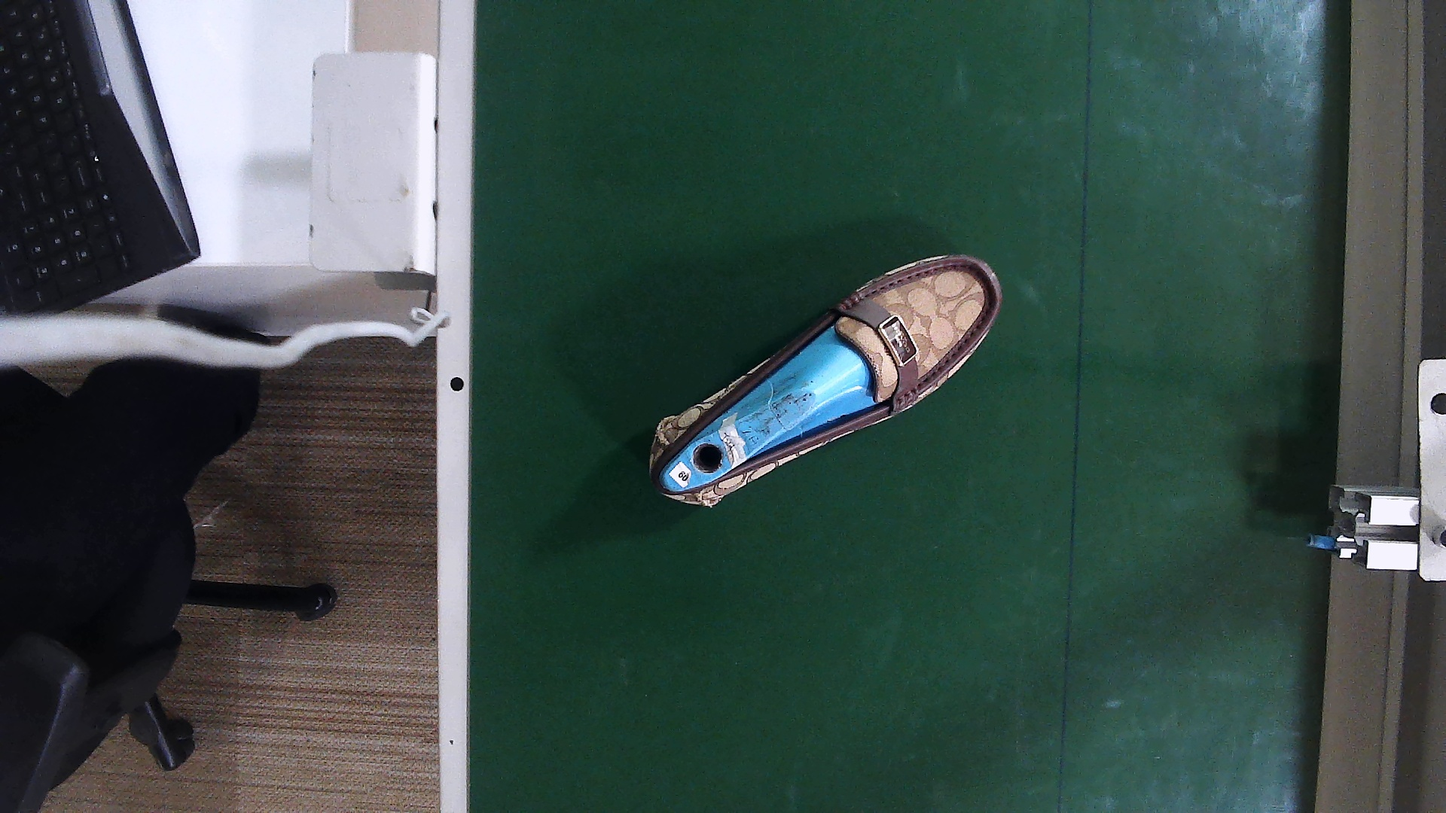shoe: (653, 257, 1000, 506)
